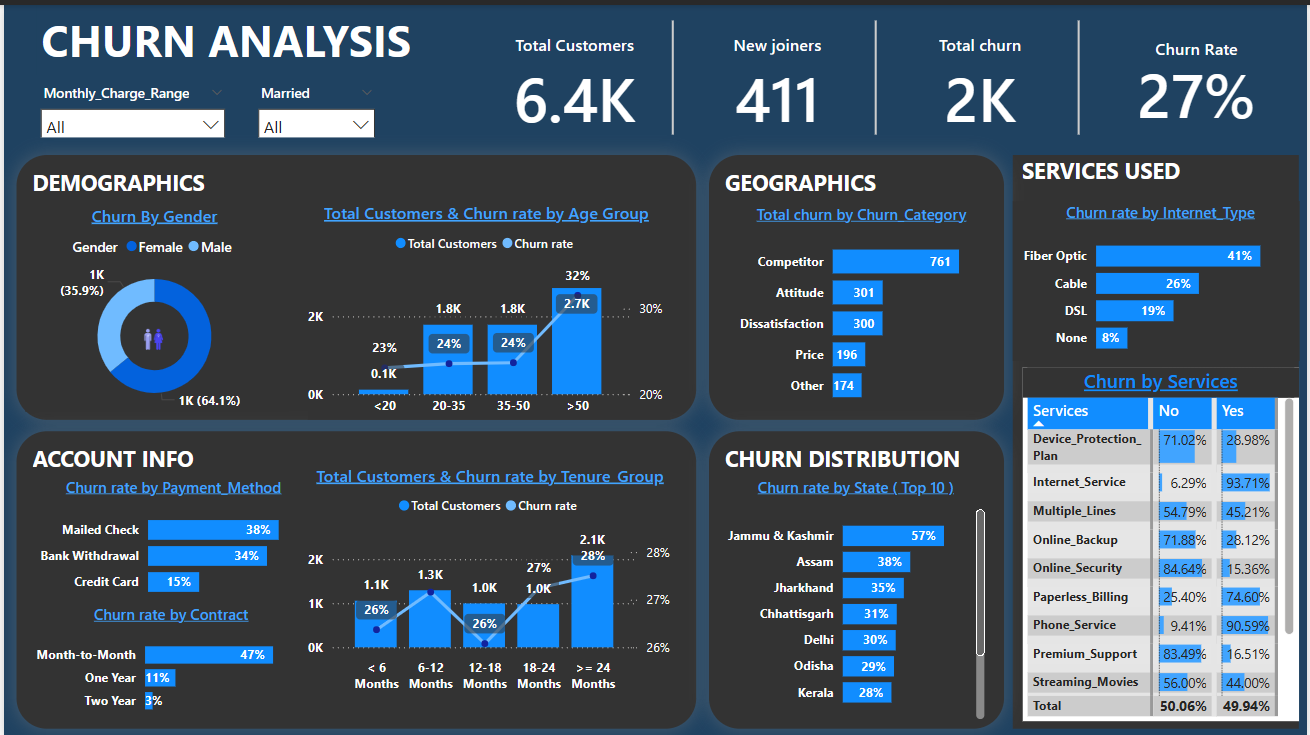

This screenshot's page, from the dashboard's own definition file:
{"tool":"powerbi","page":{"name":"Churn_Analysis","canvas":[1280,720],"ordinal":0},"visuals":[{"type":"textbox","box":[990.2,147.2,281,563.2],"z":0},{"type":"textbox","box":[12.3,147.2,667.5,260.1],"z":1000},{"type":"slicer","fields":{"Values":["prod_churn.Monthly_Charge_Range"]},"box":[25.5,72.4,201.2,57.7],"z":2000},{"type":"slicer","fields":{"Values":["prod_churn.Married"]},"box":[239,72.4,135,57.7],"z":3000},{"type":"textbox","box":[31.9,0,395.1,68.7],"z":4000},{"type":"cardVisual","fields":{"Data":["Base_measures.Total Customers","Base_measures.New joiners","Base_measures.Total churn"]},"box":[457.7,0,603.7,147.2],"z":5000},{"type":"textbox","box":[12.3,418.4,667.5,292],"z":6000},{"type":"card","title":"Churn Rate","fields":{"Values":["Base_measures.Churn rate"]},"box":[1061.4,16,218.4,122.7],"z":7000},{"type":"donutChart","title":"Churn By Gender ","fields":{"Category":["prod_churn.Gender"],"Y":["Base_measures.Total churn"]},"box":[20.9,195.1,258.9,203.7],"z":8000},{"type":"image","box":[117.8,299.4,58.9,56.4],"z":9000},{"type":"lineStackedColumnComboChart","title":"Total Customers & Churn rate by Age Group","fields":{"Category":["mapping_AgeGrp.Age Group"],"Y":["Base_measures.Total Customers"],"Y2":["Base_measures.Churn rate"]},"box":[298.2,192.6,355.8,214.7],"z":10000},{"type":"textbox","box":[692,147.2,289.6,260.1],"z":11000},{"type":"textbox","box":[692,418.4,289.6,292],"z":12000},{"type":"barChart","fields":{"Category":["prod_churn.Payment_Method"],"Y":["Base_measures.Churn rate"]},"box":[25.8,462.6,272.4,125.2],"z":13000},{"type":"barChart","fields":{"Y":["Base_measures.Churn rate"],"Category":["prod_churn.Contract"]},"box":[26.1,587.3,271.7,113.9],"z":14000},{"type":"lineStackedColumnComboChart","title":"Total Customers & Churn rate by Tenure_Group","fields":{"Y":["Base_measures.Total Customers"],"Y2":["Base_measures.Churn rate"],"Category":["mapping_TenureGrp.Tenure_Group"]},"box":[298.3,450.2,363,226.5],"z":15000},{"type":"barChart","fields":{"Category":["prod_churn.Churn_Category"],"Y":["Base_measures.Total churn"]},"box":[712.2,194.9,251.1,203.1],"z":16000},{"type":"barChart","title":"Churn rate by State ( Top 10 )","fields":{"Category":["prod_churn.State"],"Y":["Base_measures.Churn rate"]},"box":[701.2,462.4,262.1,238.8],"z":17000},{"type":"barChart","fields":{"Category":["prod_churn.Internet_Type"],"Y":["Base_measures.Churn rate"]},"box":[990.7,192.1,281.3,156.4],"z":18000},{"type":"pivotTable","title":"Churn by Services","fields":{"Rows":["prod_services.Services"],"Columns":["prod_services.Status"],"Values":["Sum(prod_services.Churn_Status)"]},"box":[1000,355.8,271.2,347.2],"z":19000}]}

Visuals, with their boxes in screenshot pixels (x1, y1, x2, y2), scaled from the page's 1280x720 canvas onto the 1310x735 screenshot:
textbox: {"x1": 1013, "y1": 150, "x2": 1301, "y2": 725}
textbox: {"x1": 13, "y1": 150, "x2": 696, "y2": 416}
slicer - prod_churn.Monthly_Charge_Range: {"x1": 26, "y1": 74, "x2": 232, "y2": 133}
slicer - prod_churn.Married: {"x1": 245, "y1": 74, "x2": 383, "y2": 133}
textbox: {"x1": 33, "y1": 0, "x2": 437, "y2": 70}
cardVisual - Base_measures.Total Customers x Base_measures.New joiners: {"x1": 468, "y1": 0, "x2": 1086, "y2": 150}
textbox: {"x1": 13, "y1": 427, "x2": 696, "y2": 725}
"Churn Rate" card: {"x1": 1086, "y1": 16, "x2": 1309, "y2": 142}
"Churn By Gender " donutChart: {"x1": 21, "y1": 199, "x2": 286, "y2": 407}
image: {"x1": 121, "y1": 306, "x2": 181, "y2": 363}
"Total Customers & Churn rate by Age Group" lineStackedColumnComboChart: {"x1": 305, "y1": 197, "x2": 669, "y2": 416}
textbox: {"x1": 708, "y1": 150, "x2": 1005, "y2": 416}
textbox: {"x1": 708, "y1": 427, "x2": 1005, "y2": 725}
barChart - prod_churn.Payment_Method x Base_measures.Churn rate: {"x1": 26, "y1": 472, "x2": 305, "y2": 600}
barChart - Base_measures.Churn rate x prod_churn.Contract: {"x1": 27, "y1": 600, "x2": 305, "y2": 716}
"Total Customers & Churn rate by Tenure_Group" lineStackedColumnComboChart: {"x1": 305, "y1": 460, "x2": 677, "y2": 691}
barChart - prod_churn.Churn_Category x Base_measures.Total churn: {"x1": 729, "y1": 199, "x2": 986, "y2": 406}
"Churn rate by State ( Top 10 )" barChart: {"x1": 718, "y1": 472, "x2": 986, "y2": 716}
barChart - prod_churn.Internet_Type x Base_measures.Churn rate: {"x1": 1014, "y1": 196, "x2": 1302, "y2": 356}
"Churn by Services" pivotTable: {"x1": 1023, "y1": 363, "x2": 1301, "y2": 718}
